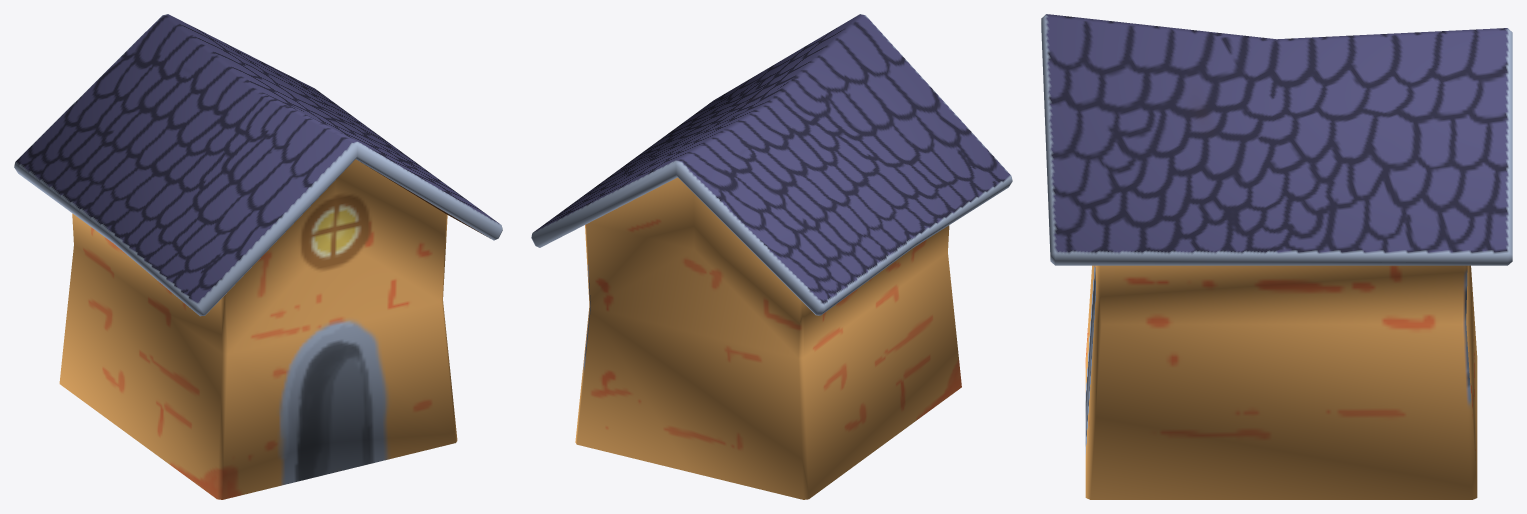
File: house_01.glb
3 views of the same model, side by side, from view 1: azimuth 30°, elevation 25°; view 2: azimuth 150°, elevation 25°; view 3: azimuth 270°, elevation 25° (orthographic). The views are drawn at different scales.
Parts seen in each view (by area): view 1: HouseBase; view 2: HouseBase; view 3: HouseBase.
Part boxes in pixels (bbox=[...]): HouseBase: bbox=[14, 14, 502, 499]; HouseBase: bbox=[531, 14, 1012, 499]; HouseBase: bbox=[1041, 14, 1512, 499].
Bounding box in the file's own units: 2.56 × 2.71 × 2.8.
2 materials, 2 textured.
